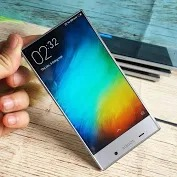vsmart: (18, 8, 161, 172)
